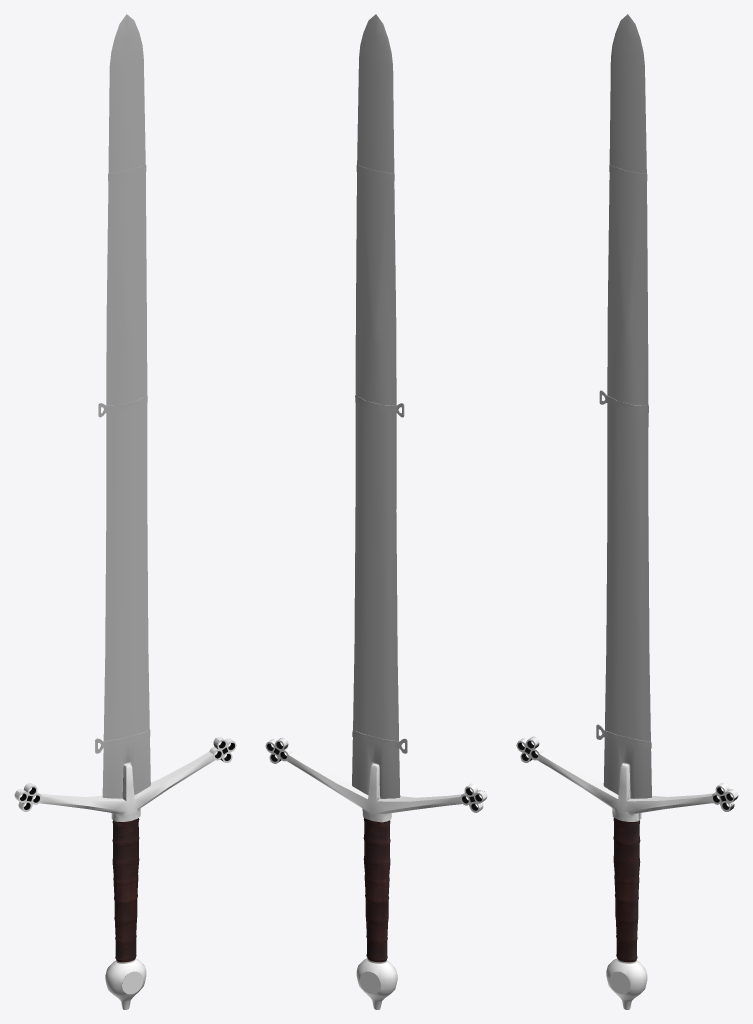
Rendered from uploads_files_1838370_ScottishClaymore.fbx.
3 views of the same model, side by side, from view 1: azimuth 30°, elevation 25°; view 2: azimuth 150°, elevation 25°; view 3: azimuth 330°, elevation 25° (orthographic).
Visible parts, largest first — view 1: ScottishClaymore_scabbard, ScottishClaymore; view 2: ScottishClaymore_scabbard, ScottishClaymore; view 3: ScottishClaymore_scabbard, ScottishClaymore.
Part boxes in pixels (x1,y1,x2,y2): ScottishClaymore_scabbard: (95,14,150,798); ScottishClaymore: (14,737,236,1009); ScottishClaymore_scabbard: (352,14,407,798); ScottishClaymore: (265,737,487,1009); ScottishClaymore_scabbard: (596,14,651,798); ScottishClaymore: (516,736,738,1009).
Size of the model in its own units: 33.8 by 147 by 3.64.
